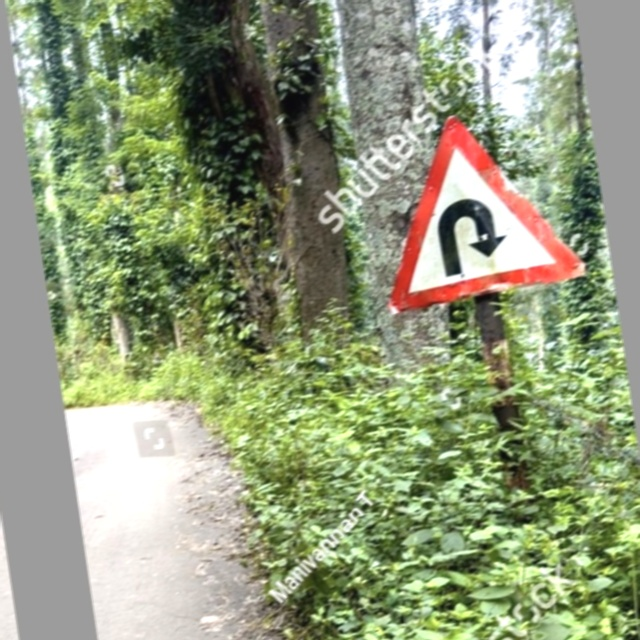Right_Hair_Pin_Bend: (369, 101, 583, 306)
